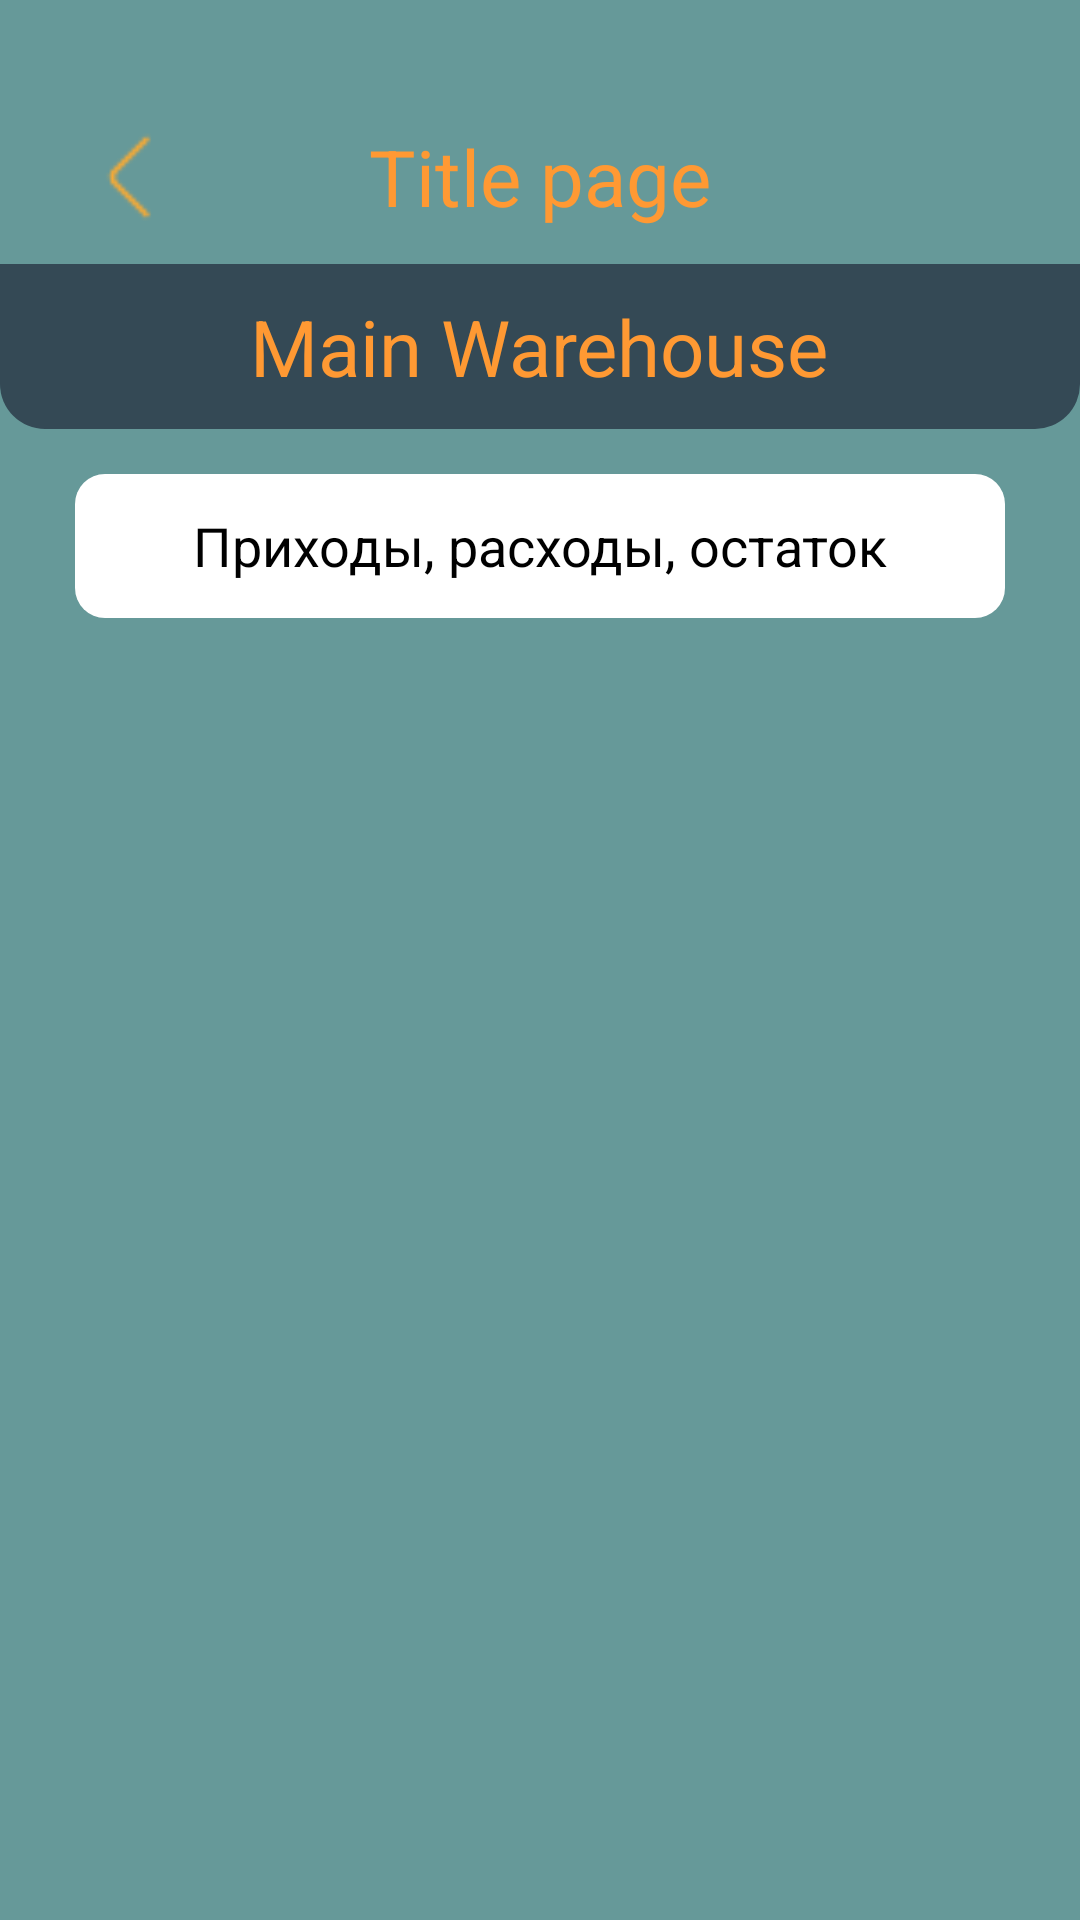

Point at icon controls on the screen. Image size 1080×1920, points as point (x, y).
return: point (129, 177)
